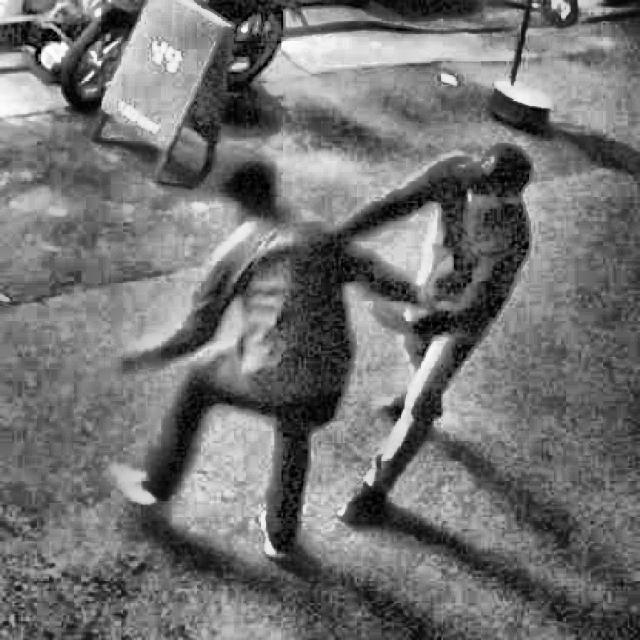robbery: (95, 129, 559, 579)
